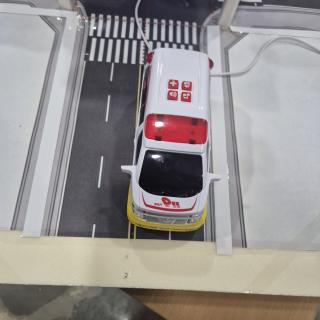Ambulance: (121, 48, 213, 231)
